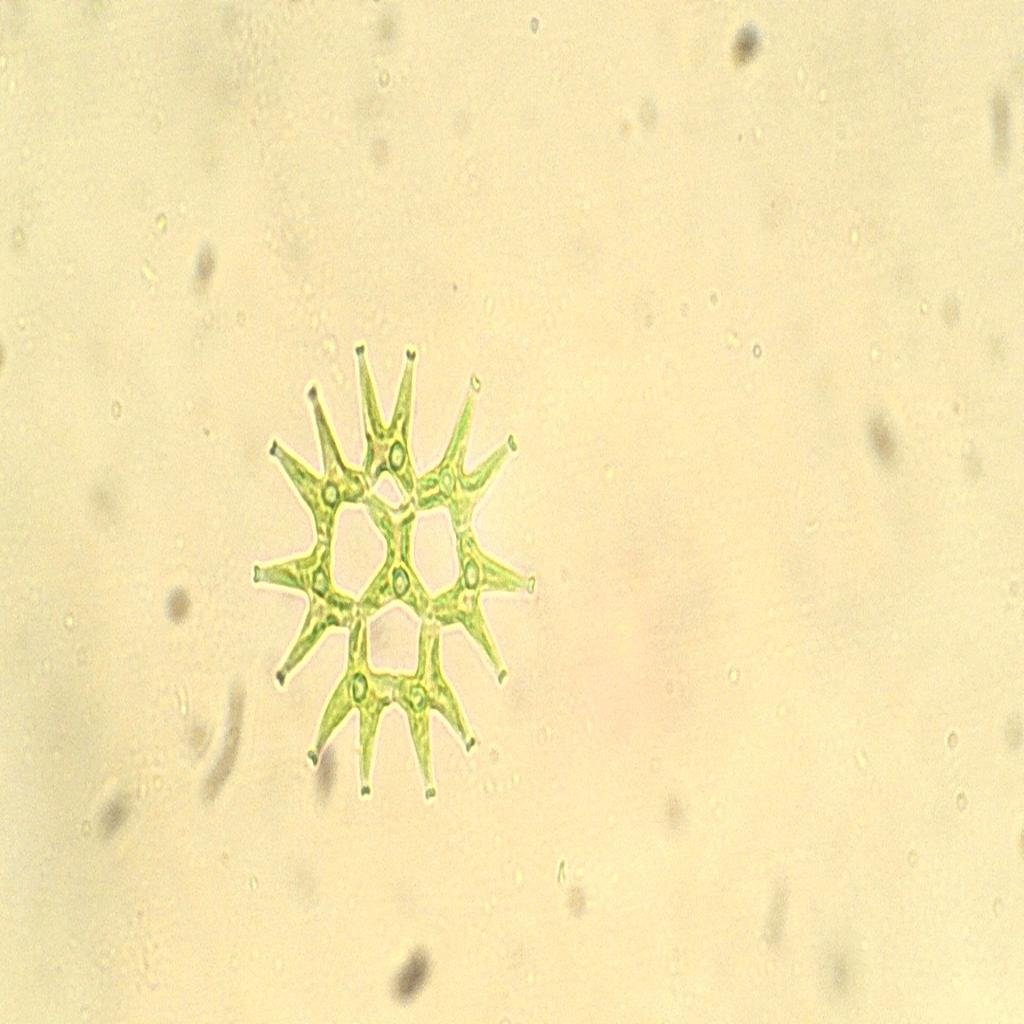Pediastrum_75T: (238, 330, 543, 819)
